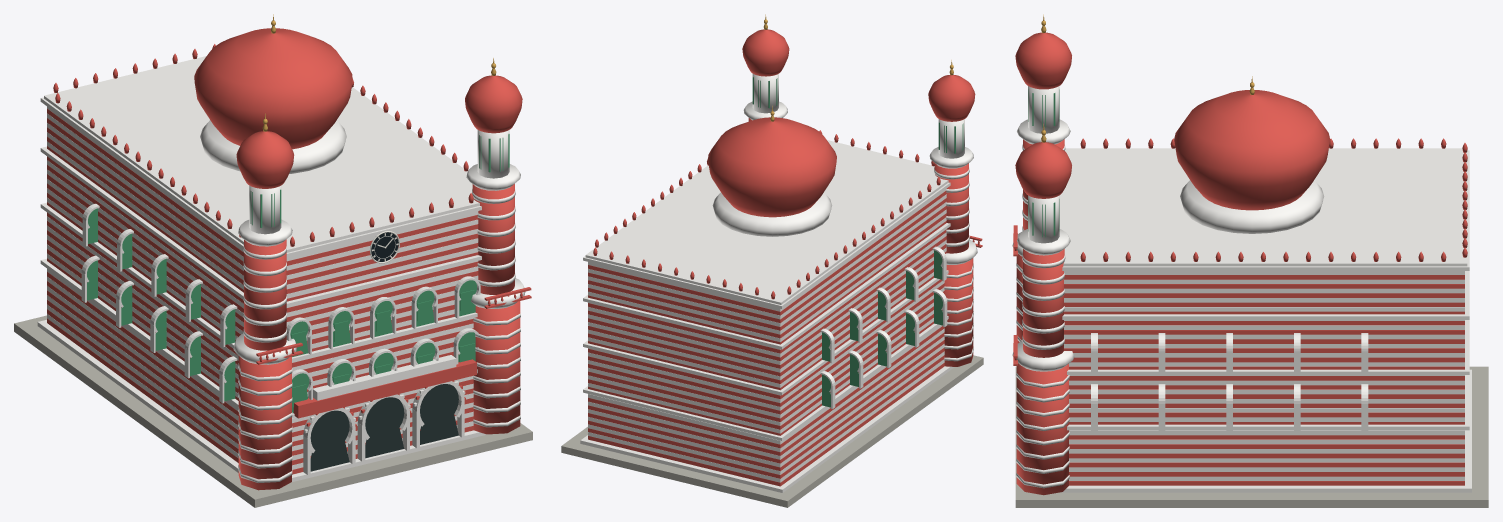
File: map.glb
3 renders of one model, left to right at view 1: azimuth 30°, elevation 25°; view 2: azimuth 150°, elevation 25°; view 3: azimuth 270°, elevation 25°, orthographic. The views are drawn at different scales.
Bounding box in the file's own units: 28.6 × 36.5 × 42.3.
